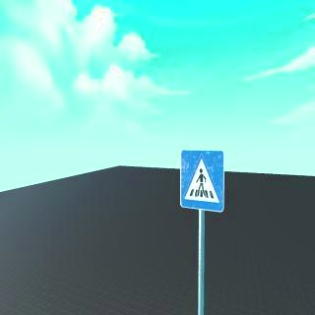crosswalk: (180, 150, 225, 213)
